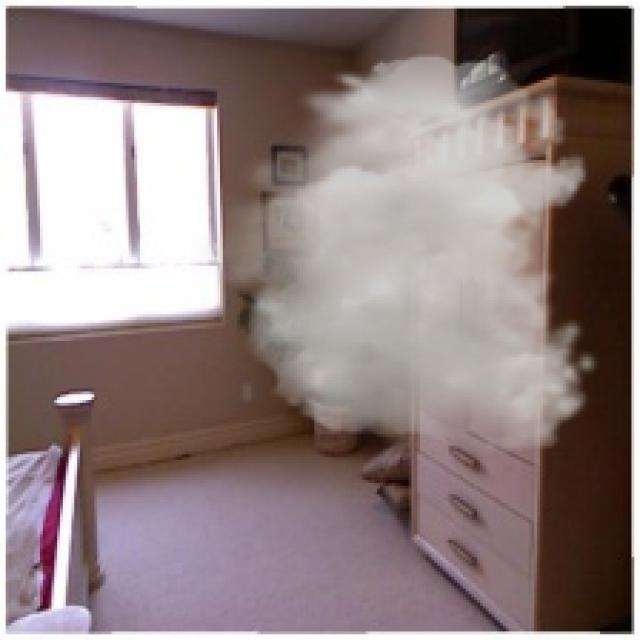smoke: (191, 54, 603, 454)
